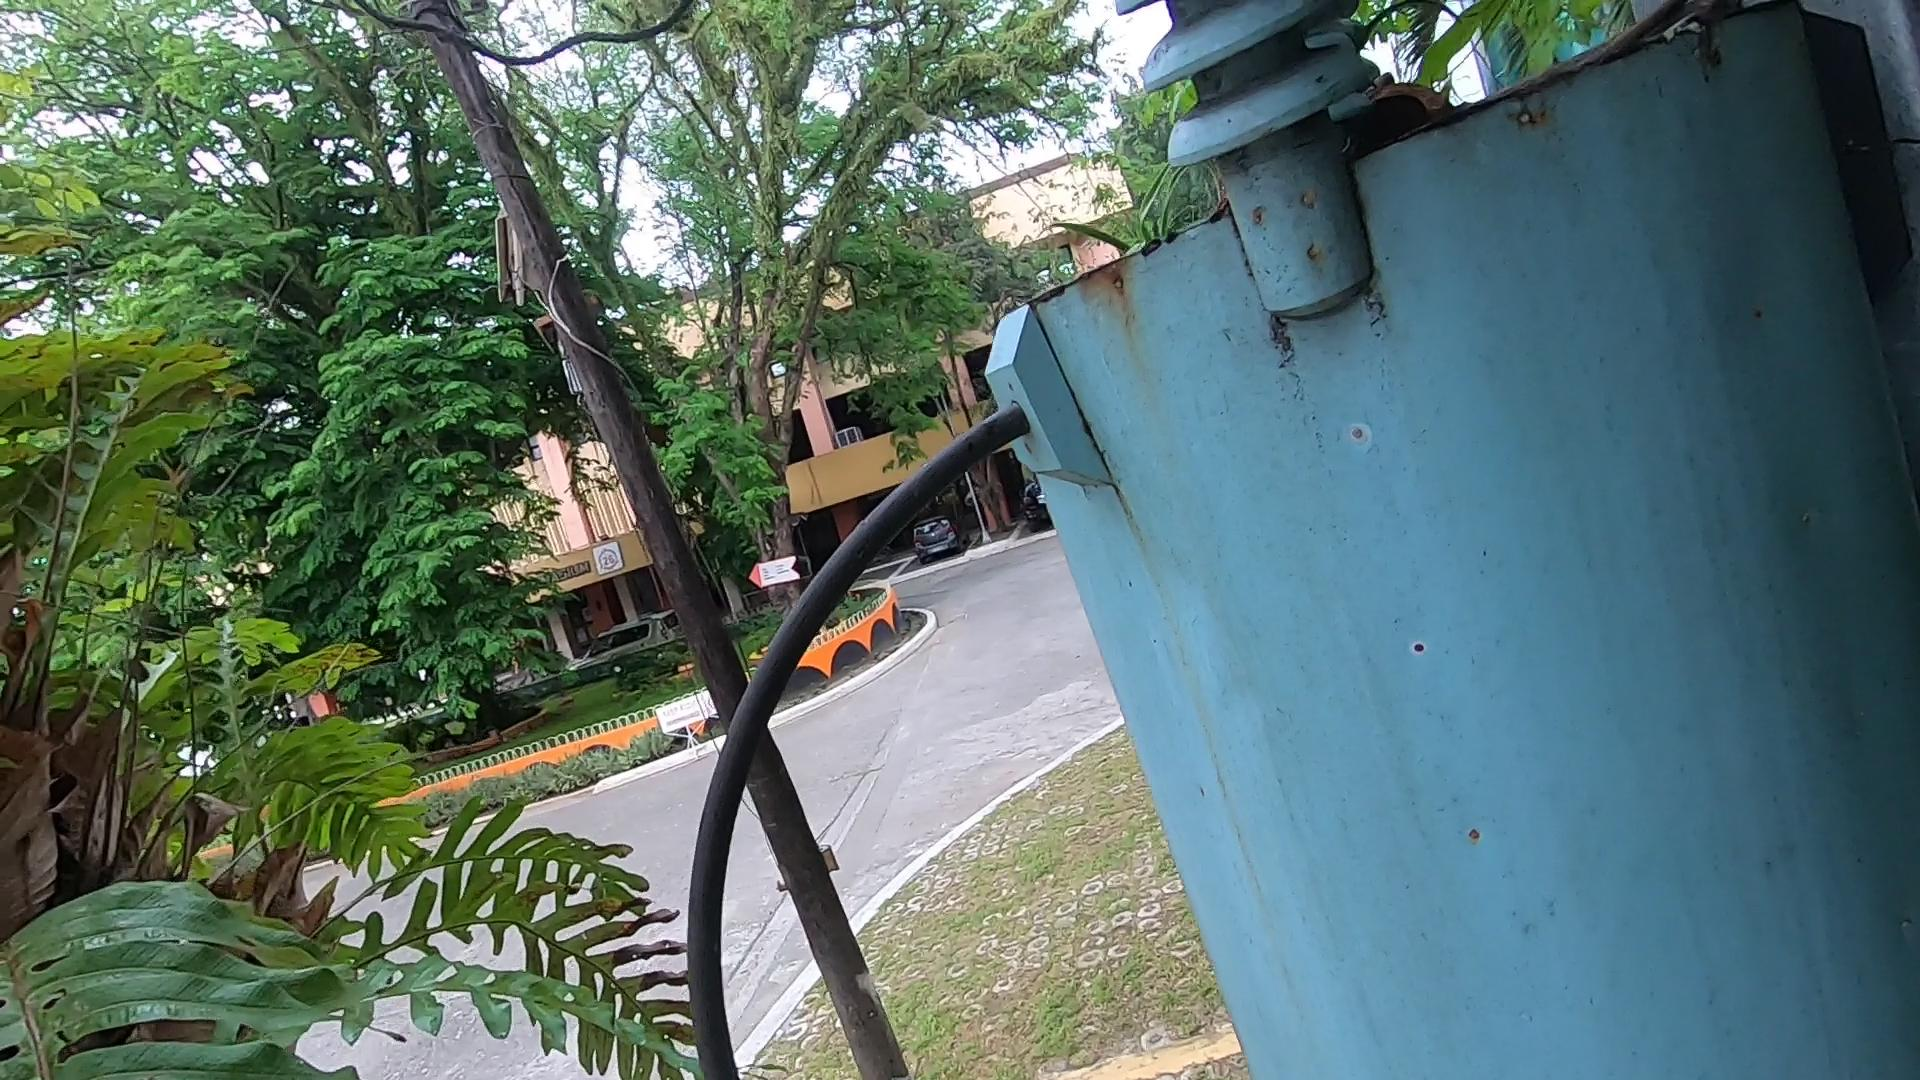leaf: (1353, 51, 1470, 124)
